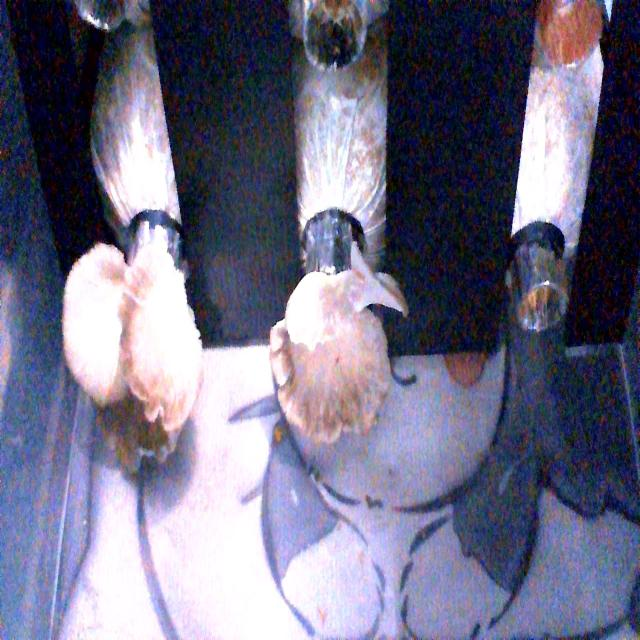big: (55, 238, 204, 458), (286, 227, 424, 445)
nfound: (521, 0, 622, 76), (509, 252, 579, 359)
